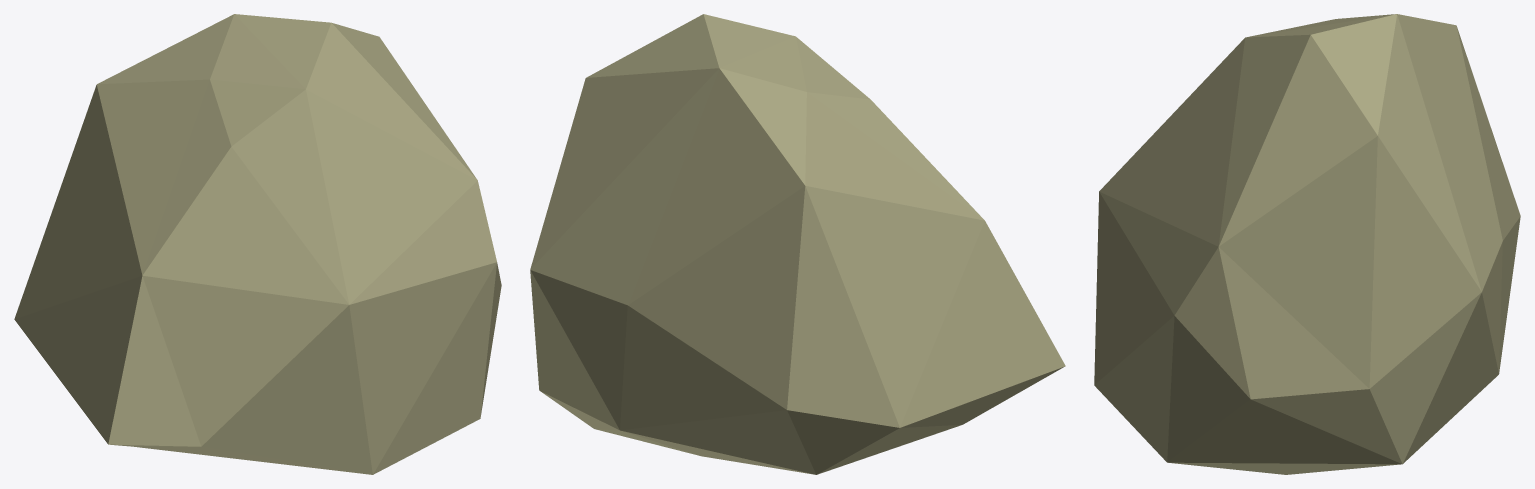
The model's file is plains_rock2.obj.
3 renders of one model, left to right at view 1: azimuth 30°, elevation 25°; view 2: azimuth 150°, elevation 25°; view 3: azimuth 270°, elevation 25°, orthographic. The views are drawn at different scales.
Size of the model in its own units: 2.78 by 2.43 by 2.29.
